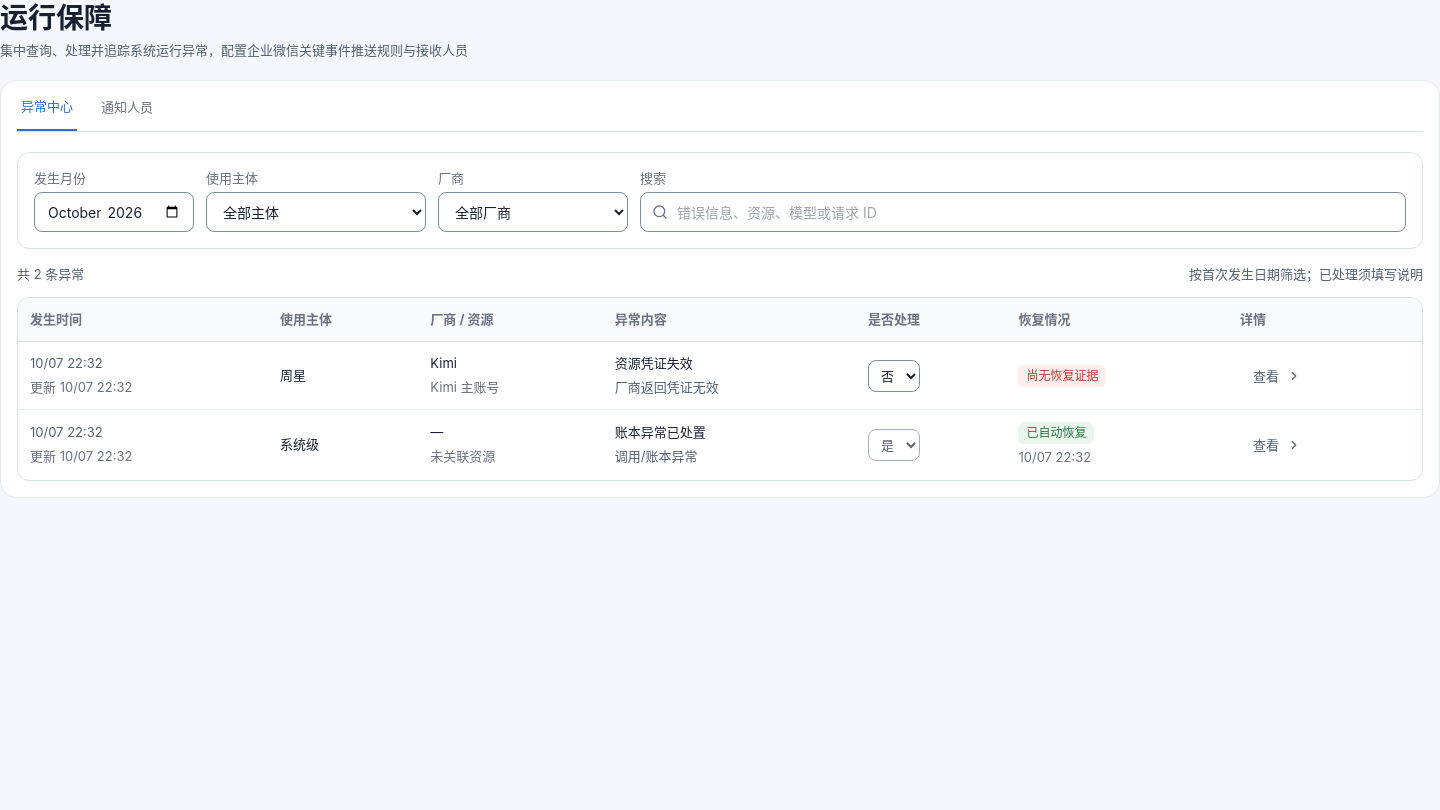
Test case: 运行保障异常中心 › 自动恢复异常保持未人工处理，并在详情显示恢复时间
The width and height of the screenshot is (1440, 810).
Replace the text in the field named "异常月份" with "2026-09" at {"x": 114, "y": 212}, box [34, 192, 194, 232]
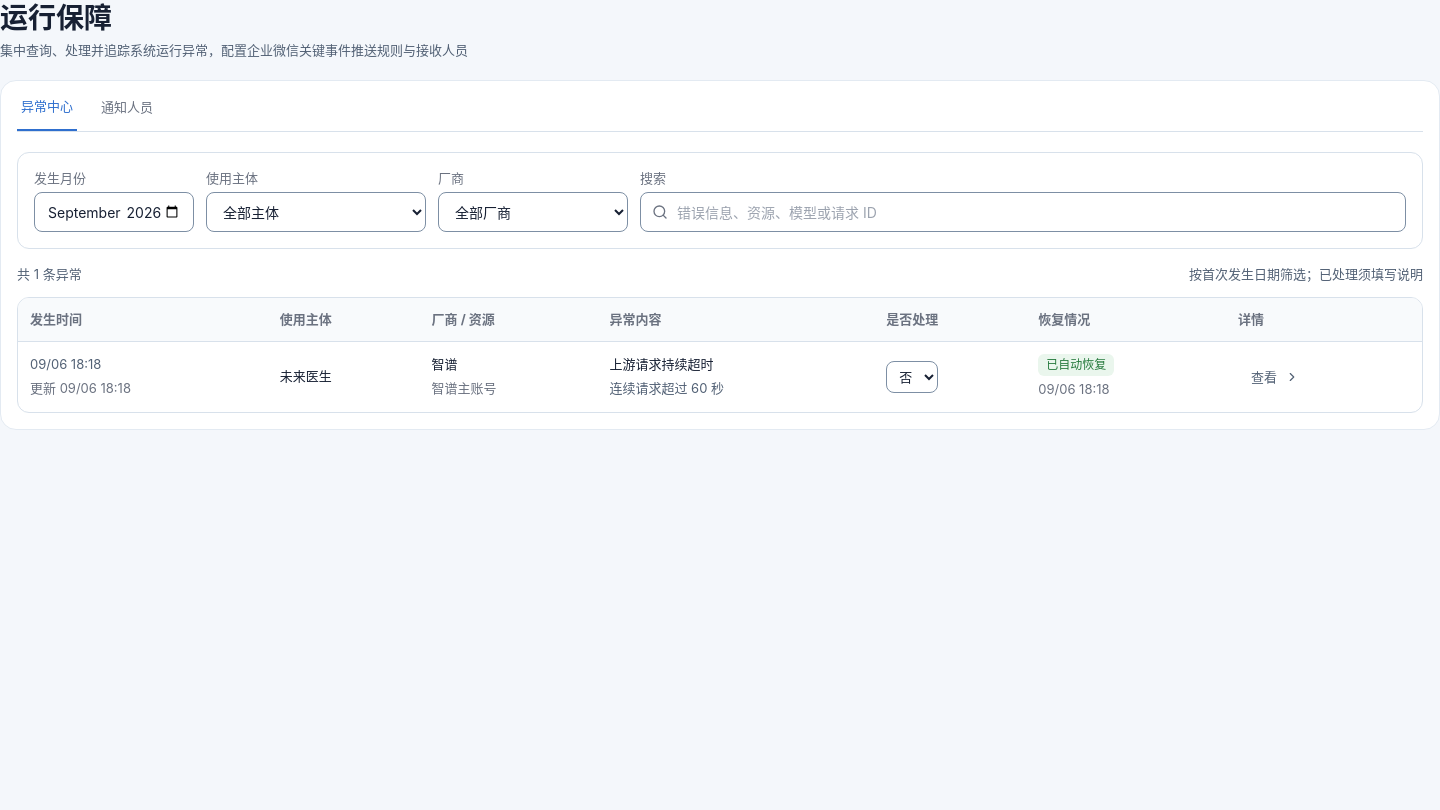
Expected: the dropdown named "上游请求持续超时 是否处理" shows "否", [886, 361, 938, 393]
Now the text "上游请求持续超时" is shown, box [610, 356, 714, 372]
Click the button "查看".
click(1275, 377)  # box [1238, 361, 1312, 393]
(page scrolled)
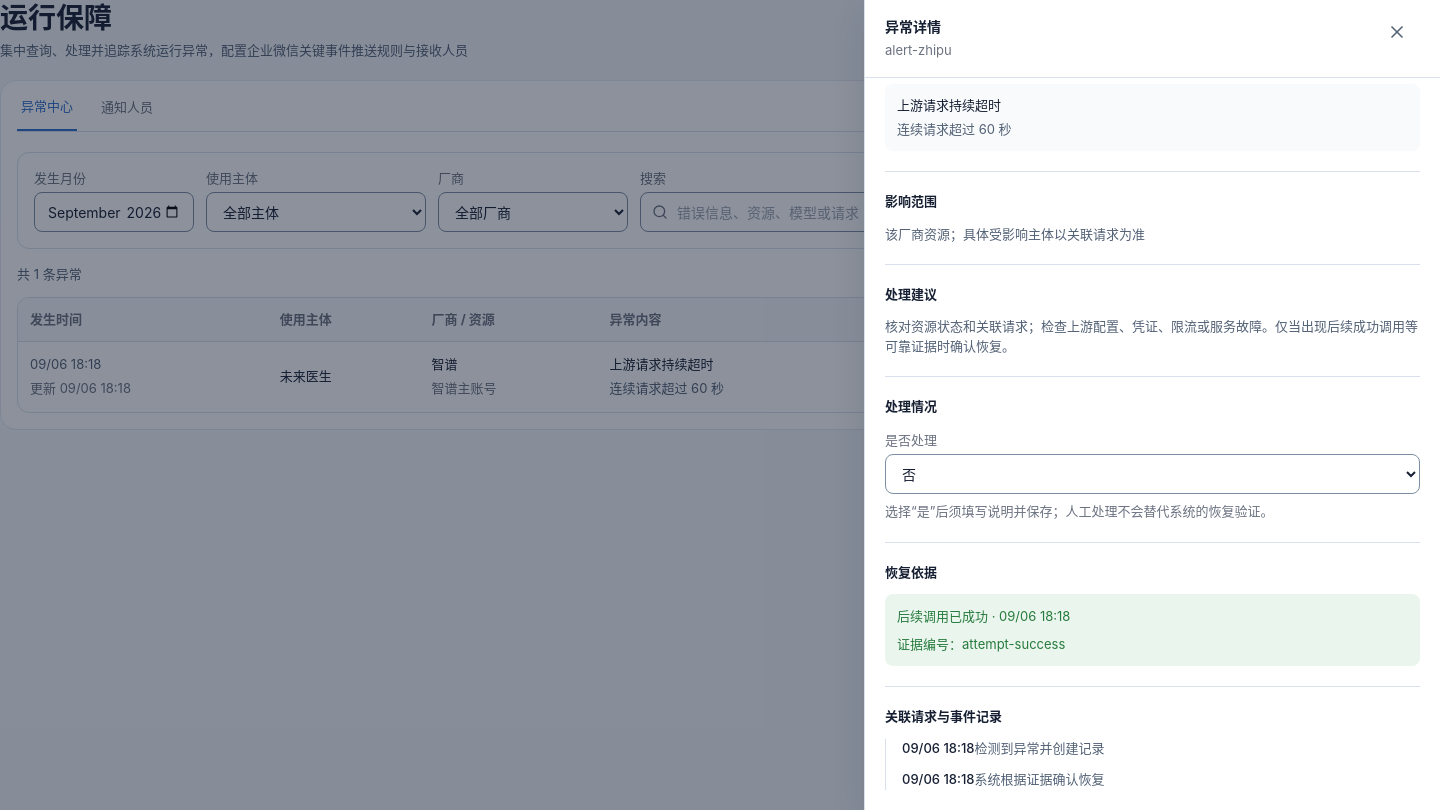
Now the text "后续调用已成功" is shown, box [897, 608, 1070, 624]
